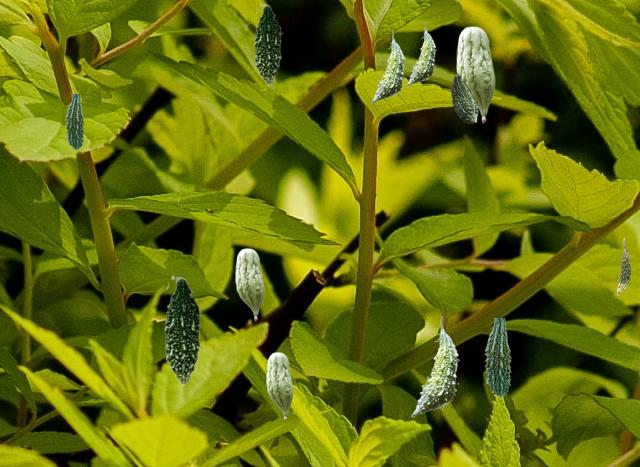ampalaya: (411, 316, 458, 416), (164, 275, 202, 385), (456, 26, 494, 122), (371, 30, 404, 102), (254, 3, 282, 85), (235, 248, 263, 320), (484, 318, 510, 395), (406, 22, 435, 85), (266, 352, 292, 420), (451, 73, 477, 122), (65, 94, 83, 148), (617, 238, 630, 296)
